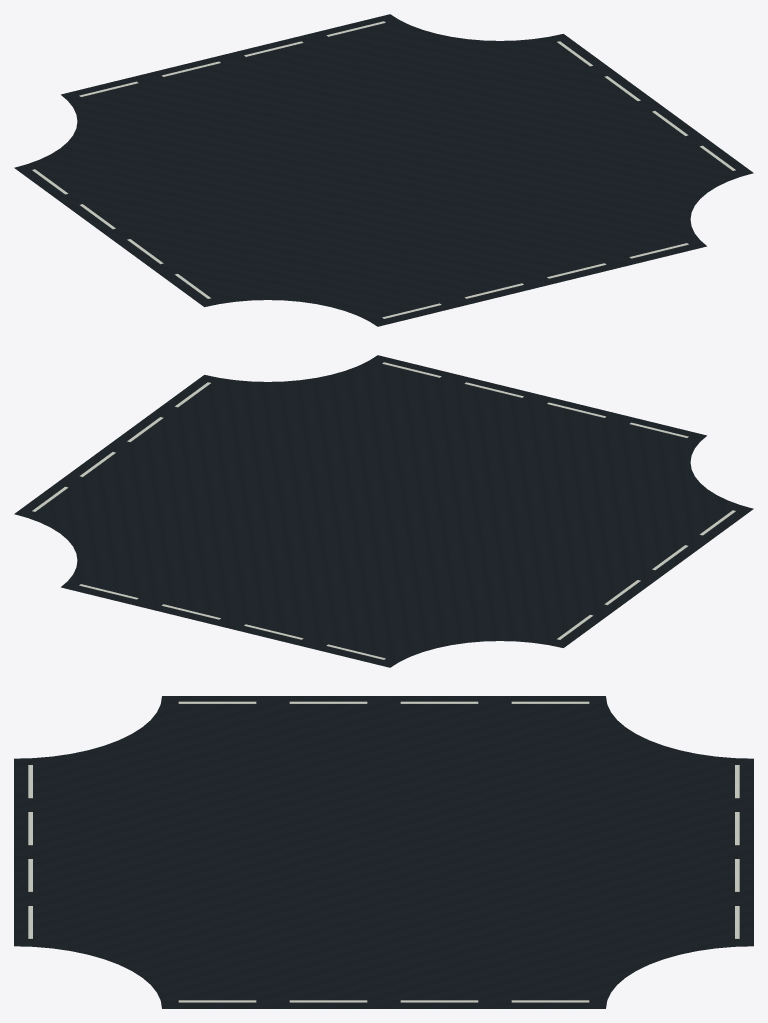
The model's file is Transit_Road_4L_XJunction_R4.glb.
3 views of the same model, one above another, from view 1: azimuth 30°, elevation 25°; view 2: azimuth 150°, elevation 25°; view 3: azimuth 270°, elevation 25° (orthographic). The views are drawn at different scales.
Parts seen in each view (by area): view 1: Transit_Road_4L_XJunction_R4_Surface, Transit_Road_4L_XJunction_R4_MarkStop3, Transit_Road_4L_XJunction_R4_MarkStop2, Transit_Road_4L_XJunction_R4_MarkStop0, Transit_Road_4L_XJunction_R4_MarkStop1; view 2: Transit_Road_4L_XJunction_R4_Surface, Transit_Road_4L_XJunction_R4_MarkStop2, Transit_Road_4L_XJunction_R4_MarkStop3, Transit_Road_4L_XJunction_R4_MarkStop0, Transit_Road_4L_XJunction_R4_MarkStop1; view 3: Transit_Road_4L_XJunction_R4_Surface, Transit_Road_4L_XJunction_R4_MarkStop1, Transit_Road_4L_XJunction_R4_MarkStop0, Transit_Road_4L_XJunction_R4_MarkStop2, Transit_Road_4L_XJunction_R4_MarkStop3.
Part boxes in pixels (x1,y1,x2,y2): Transit_Road_4L_XJunction_R4_Surface: [14, 14, 753, 326]; Transit_Road_4L_XJunction_R4_MarkStop3: [79, 21, 385, 96]; Transit_Road_4L_XJunction_R4_MarkStop2: [382, 243, 688, 318]; Transit_Road_4L_XJunction_R4_MarkStop0: [32, 169, 210, 298]; Transit_Road_4L_XJunction_R4_MarkStop1: [557, 41, 735, 170]; Transit_Road_4L_XJunction_R4_Surface: [14, 355, 753, 667]; Transit_Road_4L_XJunction_R4_MarkStop2: [382, 362, 688, 437]; Transit_Road_4L_XJunction_R4_MarkStop3: [79, 584, 385, 659]; Transit_Road_4L_XJunction_R4_MarkStop0: [557, 510, 735, 639]; Transit_Road_4L_XJunction_R4_MarkStop1: [32, 382, 210, 511]; Transit_Road_4L_XJunction_R4_Surface: [14, 696, 753, 1008]; Transit_Road_4L_XJunction_R4_MarkStop1: [178, 1000, 589, 1002]; Transit_Road_4L_XJunction_R4_MarkStop0: [178, 701, 589, 703]; Transit_Road_4L_XJunction_R4_MarkStop2: [28, 765, 32, 938]; Transit_Road_4L_XJunction_R4_MarkStop3: [735, 765, 739, 938].
Size of the model in its own units: 20 by 0.0165 by 20.
Materials: 2 (1 with a texture image).
